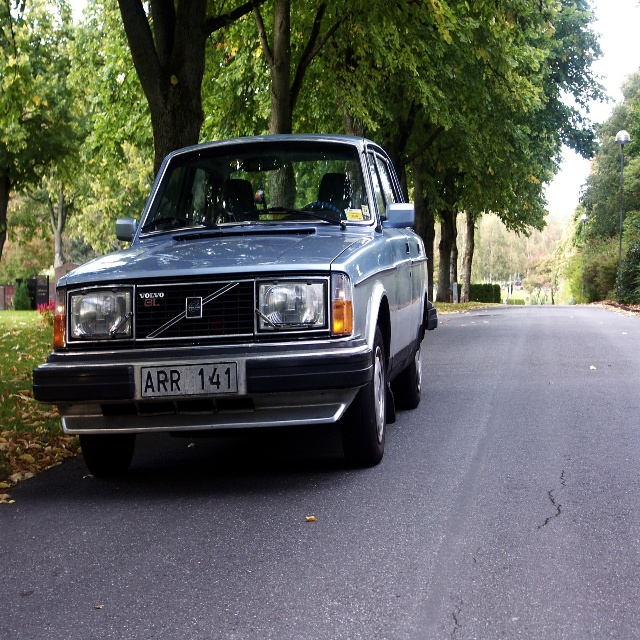Car: (32, 134, 438, 473)
